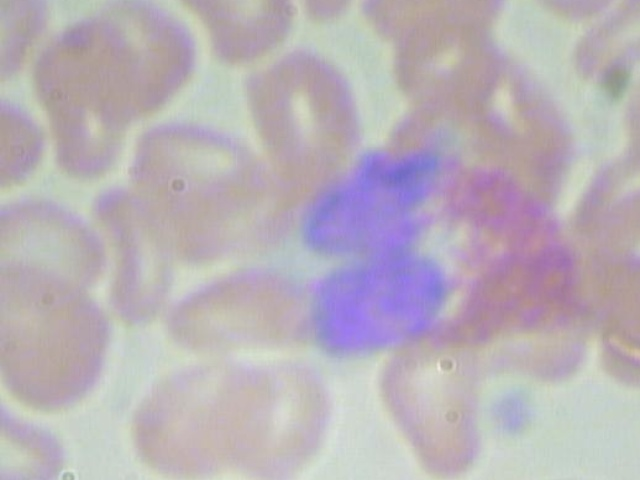Platelets: (488, 386, 539, 441)
RBC: (359, 334, 503, 480), (0, 256, 122, 417), (117, 353, 261, 480), (205, 355, 349, 480), (241, 43, 370, 172), (159, 249, 308, 352), (81, 0, 204, 121), (36, 38, 133, 191), (128, 109, 265, 210), (90, 182, 176, 332), (0, 189, 110, 297), (393, 8, 502, 107), (593, 181, 640, 339), (0, 394, 68, 480), (0, 91, 52, 197), (0, 0, 51, 83), (484, 469, 634, 480)
WBC: (299, 136, 584, 368)
